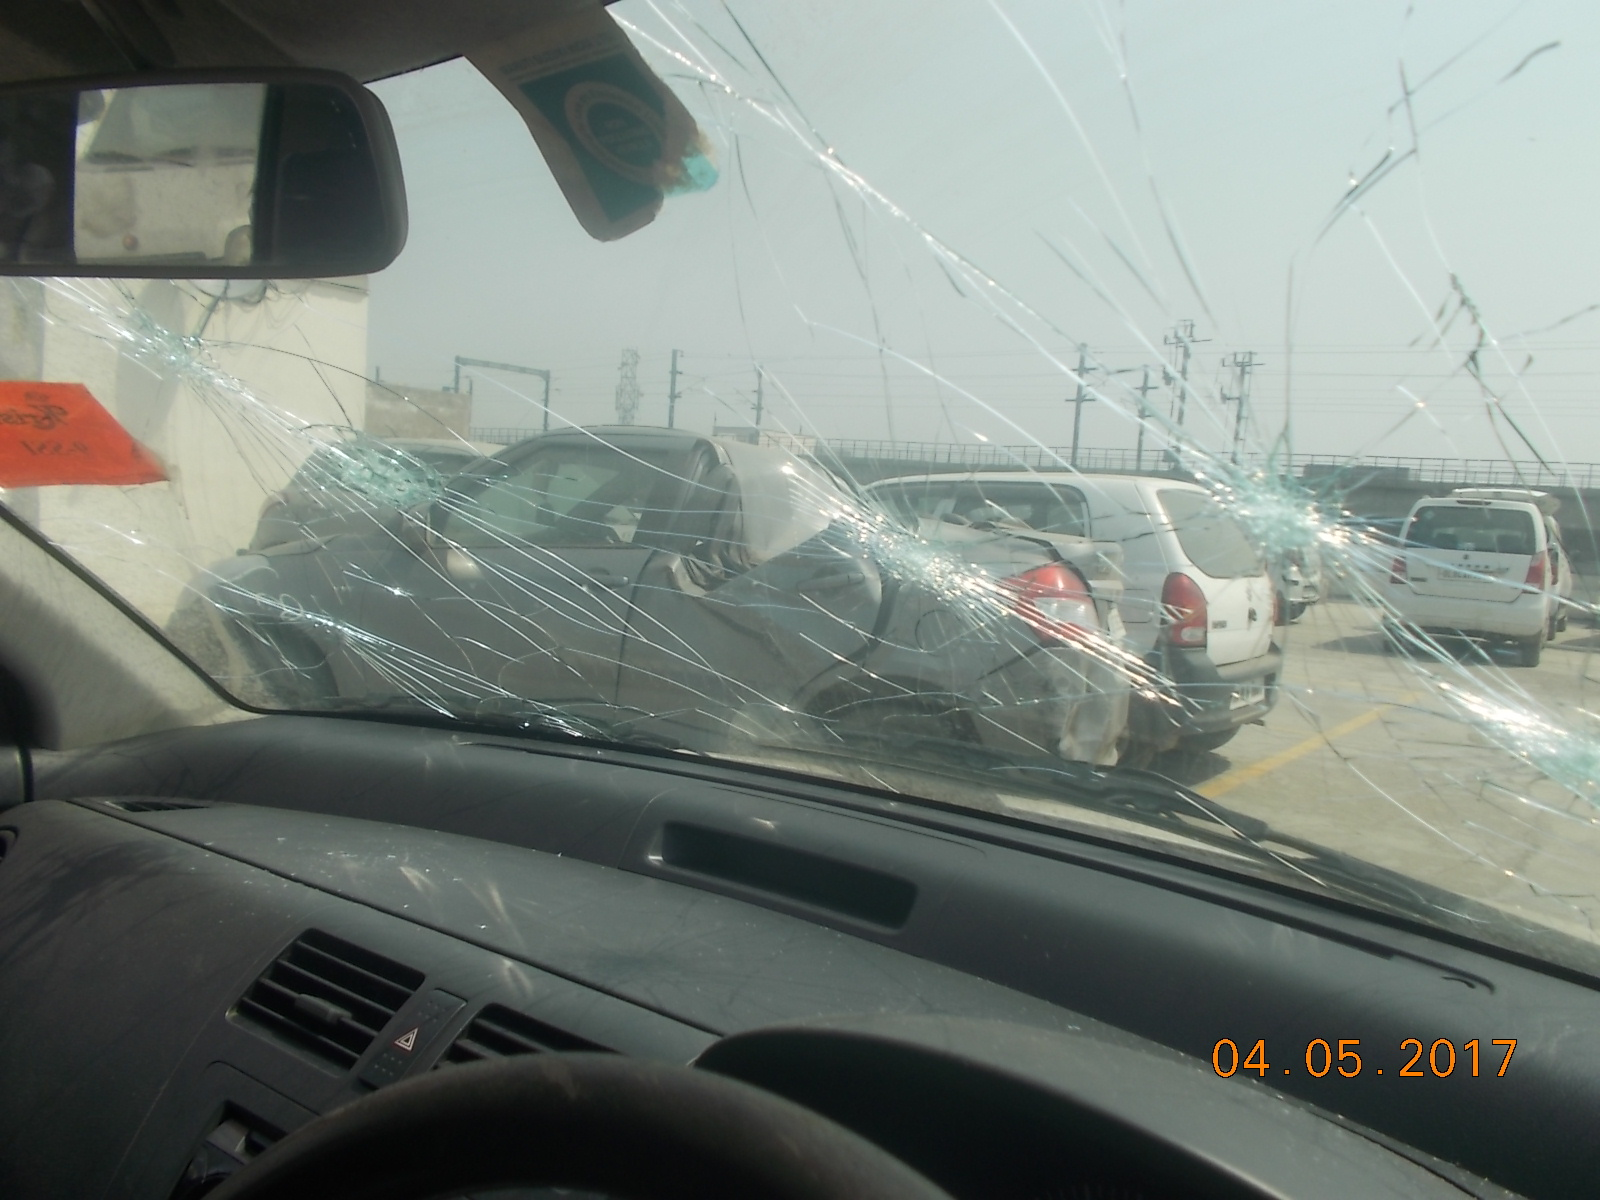Shatter: (1128, 333, 1387, 629), (203, 344, 486, 575), (801, 439, 1027, 639), (94, 292, 193, 373), (792, 130, 855, 213), (673, 38, 729, 115)
